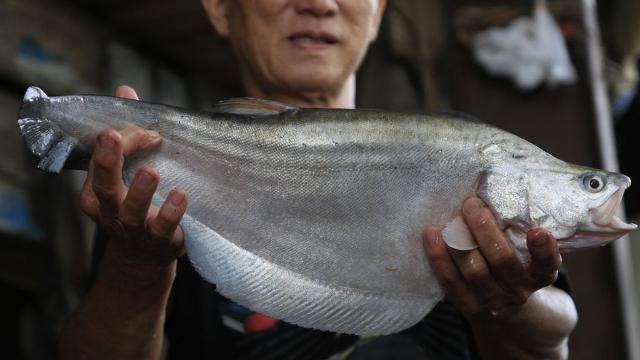Mulut: (584, 164, 640, 248)
Sirip Punggung: (202, 83, 302, 125)
